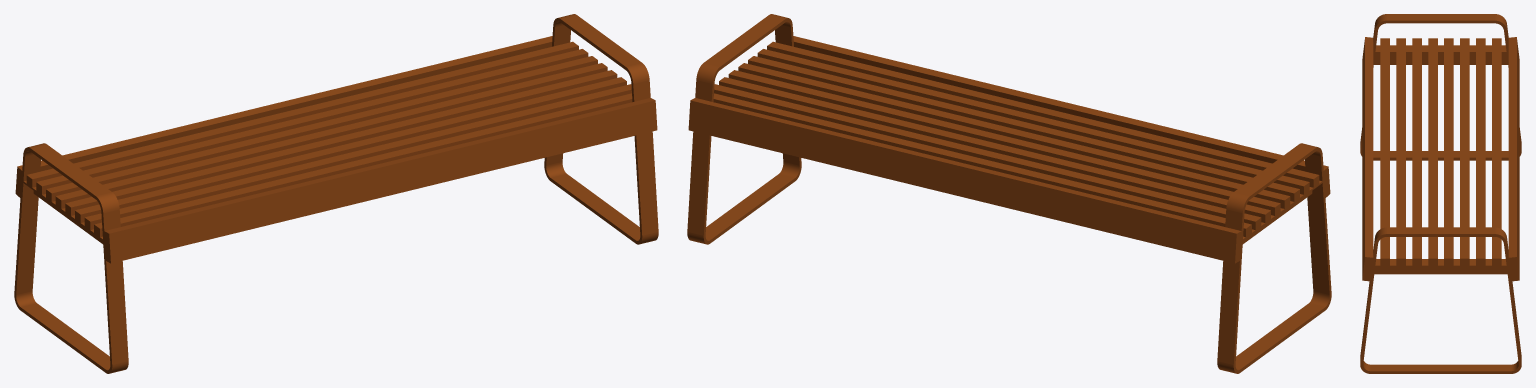
3 renders of one model, left to right at view 1: azimuth 30°, elevation 25°; view 2: azimuth 150°, elevation 25°; view 3: azimuth 270°, elevation 25°, orthographic. The views are drawn at different scales.
Parts seen in each view (by area): view 1: mesh1_mesh1-geometry; view 2: mesh1_mesh1-geometry; view 3: mesh1_mesh1-geometry.
Boxes of the visible parts, <box> form: mesh1_mesh1-geometry: <box>14,14,658,373</box>; mesh1_mesh1-geometry: <box>687,14,1331,373</box>; mesh1_mesh1-geometry: <box>1360,14,1521,373</box>.
Size of the model in its own units: 0.9189 by 0.2724 by 0.2853.
